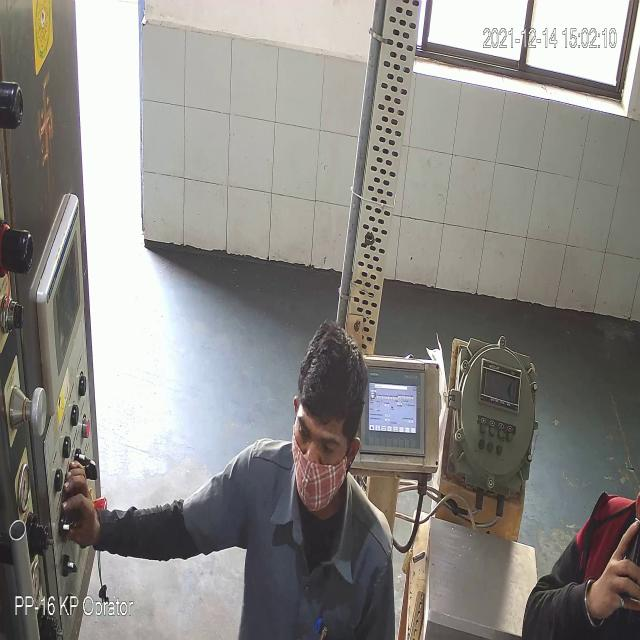Mask: (291, 431, 346, 513)
No Glove: (62, 462, 100, 546)
No Hardhat: (299, 321, 368, 444)
No Overall Suit: (98, 440, 394, 639)
